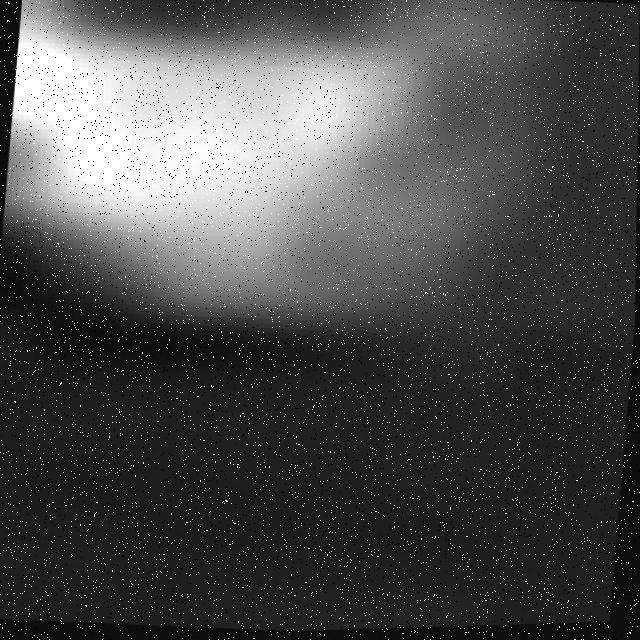person: (1, 1, 541, 366)
